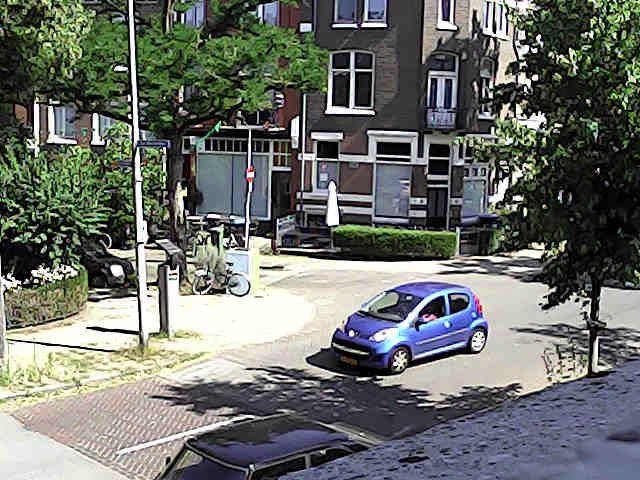suv: (157, 414, 381, 479), (332, 282, 487, 373)
